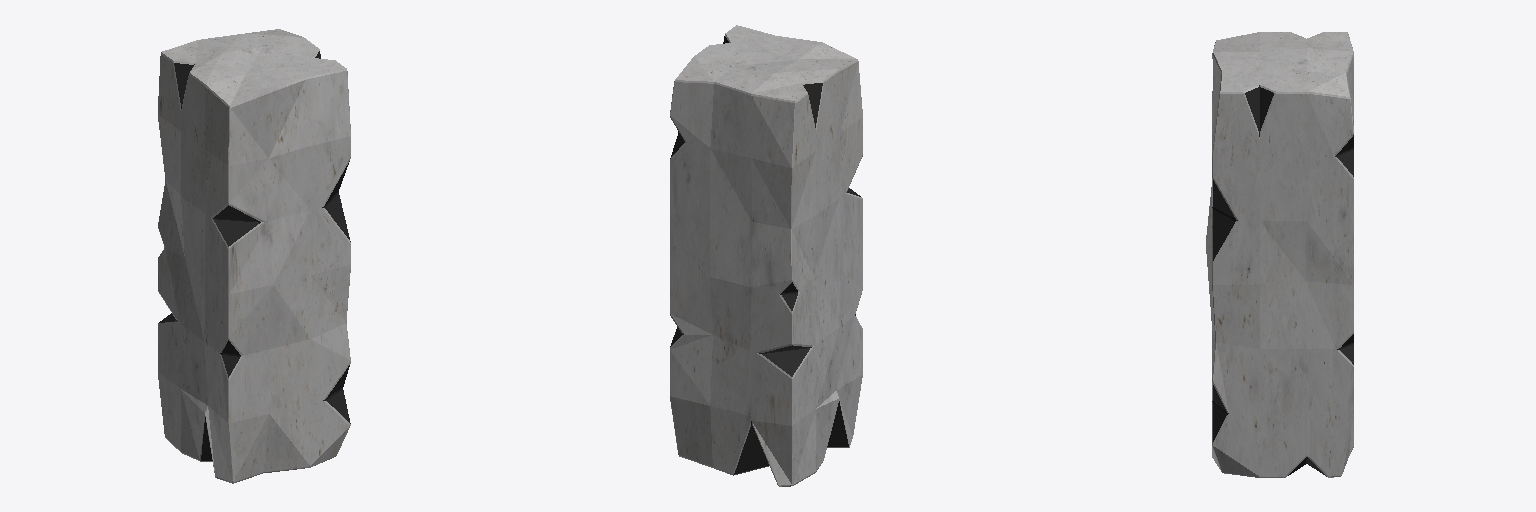
The picture shows the model from 3 angles: view 1: azimuth 30°, elevation 25°; view 2: azimuth 150°, elevation 25°; view 3: azimuth 270°, elevation 25°; orthographic projection.
Visible parts, largest first — view 1: Cube.001; view 2: Cube.001; view 3: Cube.001.
Part boxes in pixels (x1,y1,x2,y2): Cube.001: (158, 29, 350, 483); Cube.001: (670, 25, 862, 486); Cube.001: (1206, 32, 1353, 477).
Bounding box in the file's own units: 2 × 6.14 × 2.09.
Materials: 2 (1 with a texture image).